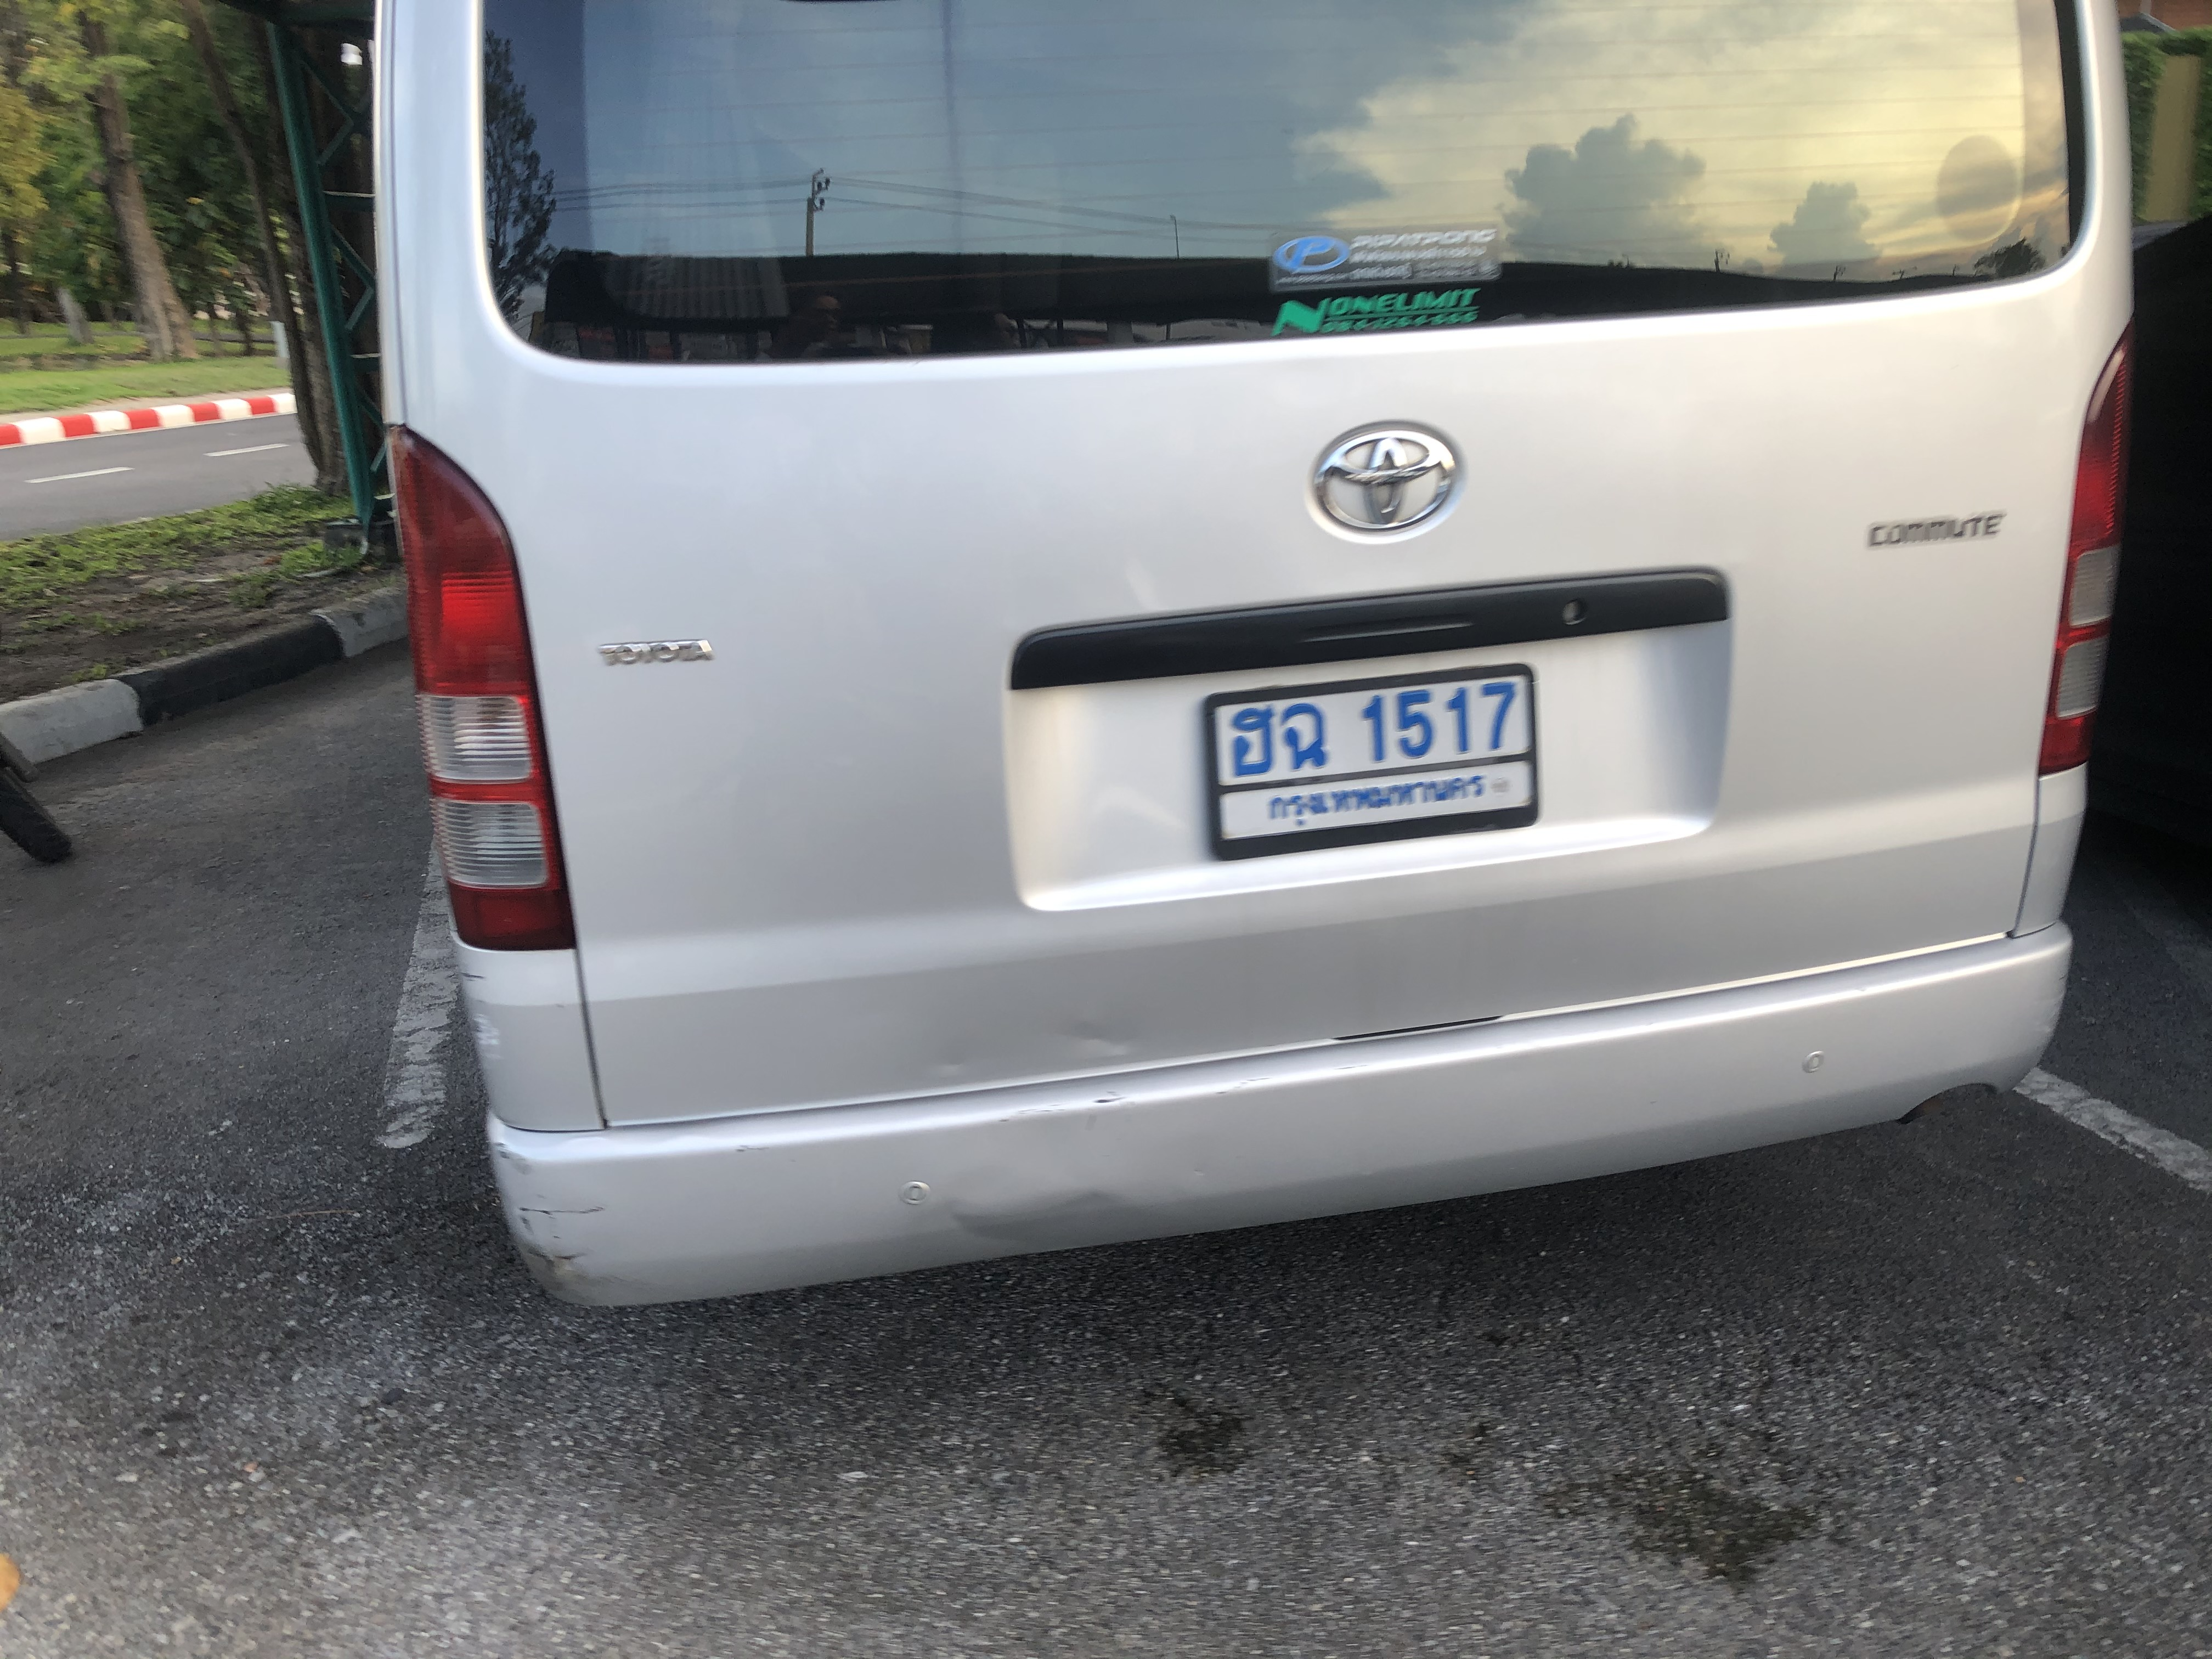in: (1212, 678, 1538, 838)
out: (1197, 655, 1550, 866)
